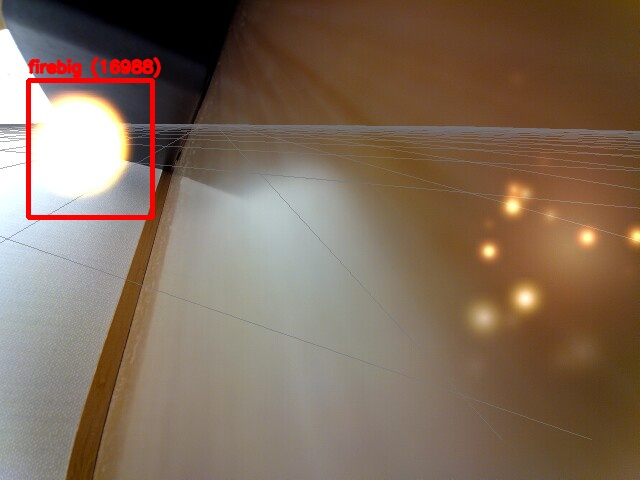firebig: (28, 80, 152, 217)
